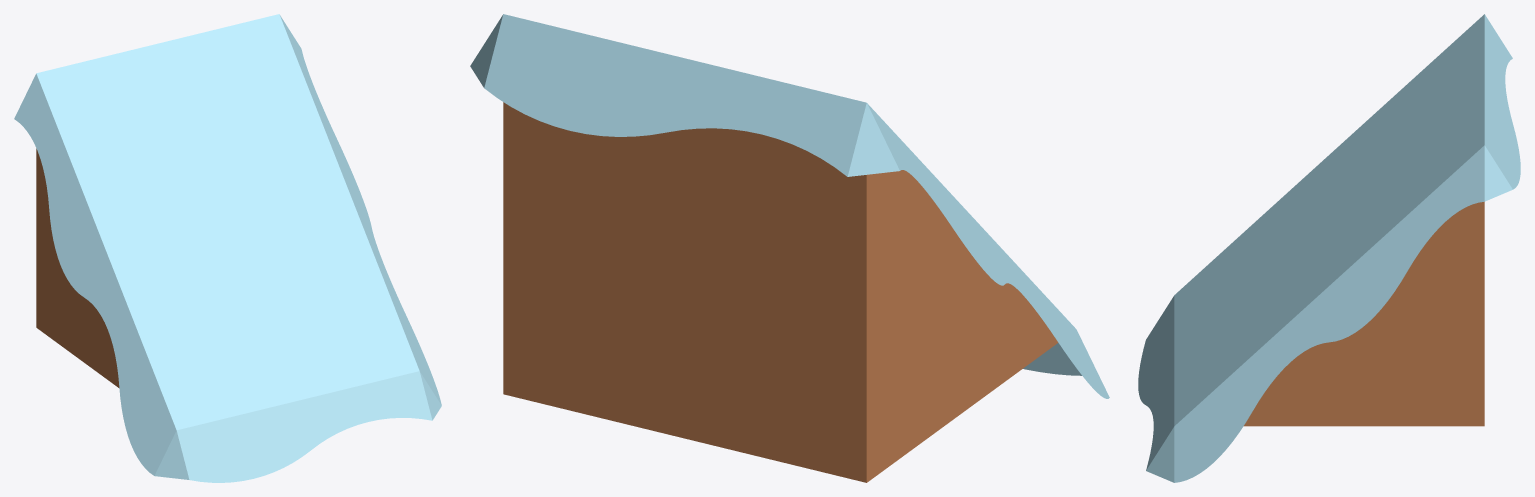
Rendered from blockSnowSlope.dae.
3 views of the same model, side by side, from view 1: azimuth 30°, elevation 25°; view 2: azimuth 150°, elevation 25°; view 3: azimuth 270°, elevation 25° (orthographic). The views are drawn at different scales.
Parts seen in each view (by area): view 1: blockSnowSlope; view 2: blockSnowSlope; view 3: blockSnowSlope.
Boxes of the visible parts, x1,y1,x2,y2 form: blockSnowSlope: (14, 14, 441, 482); blockSnowSlope: (470, 14, 1109, 482); blockSnowSlope: (1138, 14, 1520, 482).
Size of the model in its own units: 1.23 by 1.2 by 1.23.
